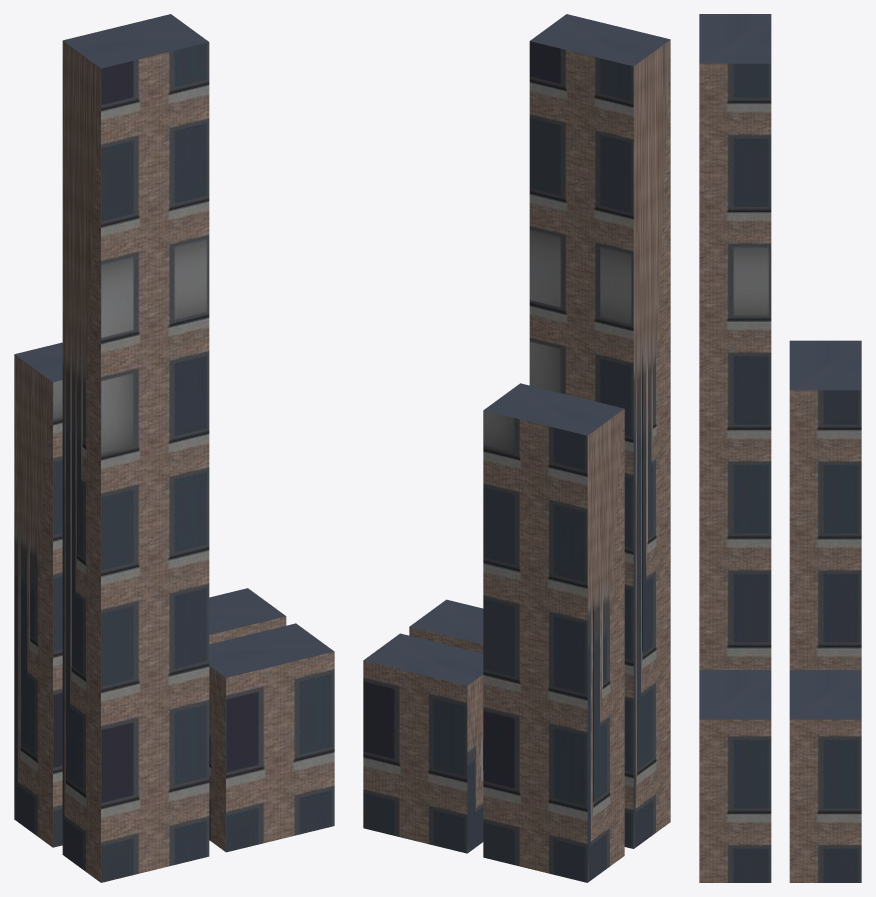
File: block_17.obj
3 renders of one model, left to right at view 1: azimuth 30°, elevation 25°; view 2: azimuth 150°, elevation 25°; view 3: azimuth 270°, elevation 25°, orthographic. The views are drawn at different scales.
Parts seen in each view (by area): view 1: b1, b3, b0, b2; view 2: b1, b0, b2, b3; view 3: b1, b0, b2, b3.
Part boxes in pixels (left/top/right/bottom): b1: left=62, top=14, right=209, bottom=882; b3: left=209, top=623, right=334, bottom=852; b0: left=14, top=342, right=62, bottom=847; b2: left=209, top=588, right=286, bottom=644; b1: left=529, top=14, right=670, bottom=848; b0: left=483, top=383, right=624, bottom=882; b2: left=363, top=633, right=483, bottom=853; b3: left=409, top=599, right=483, bottom=653; b1: left=699, top=14, right=771, bottom=669; b0: left=789, top=340, right=861, bottom=669; b2: left=789, top=670, right=861, bottom=882; b3: left=699, top=670, right=771, bottom=882.
Bounding box in the file's own units: 4.2 × 14 × 2.7.
